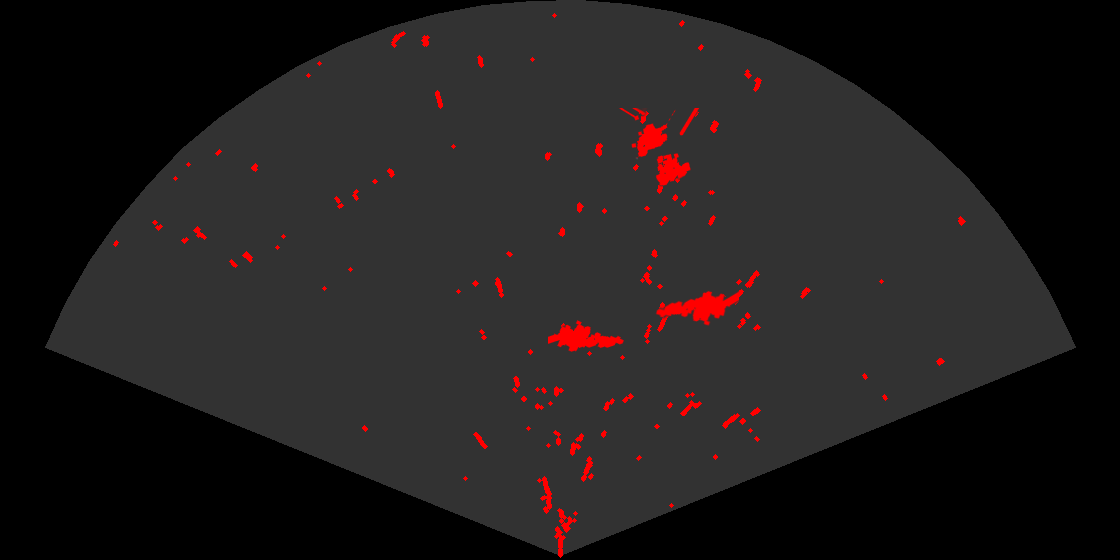cage: (618, 108, 701, 187)
frogman: (654, 289, 739, 327), (548, 319, 625, 353)
